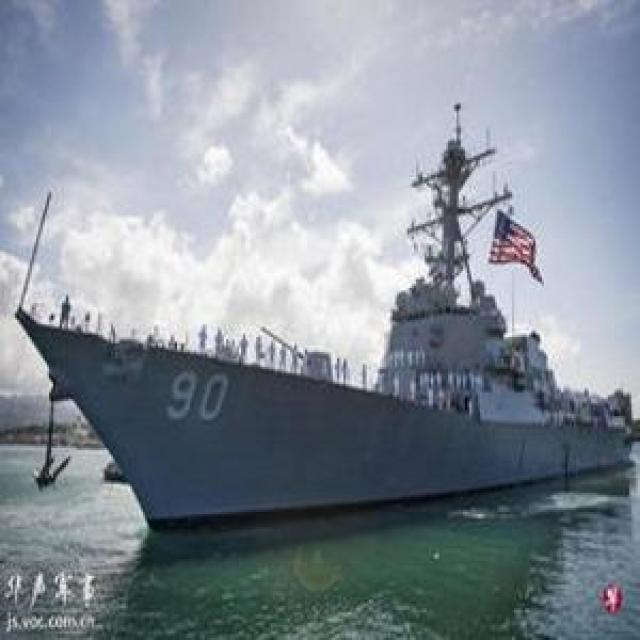navalvessels: (11, 110, 640, 612)
